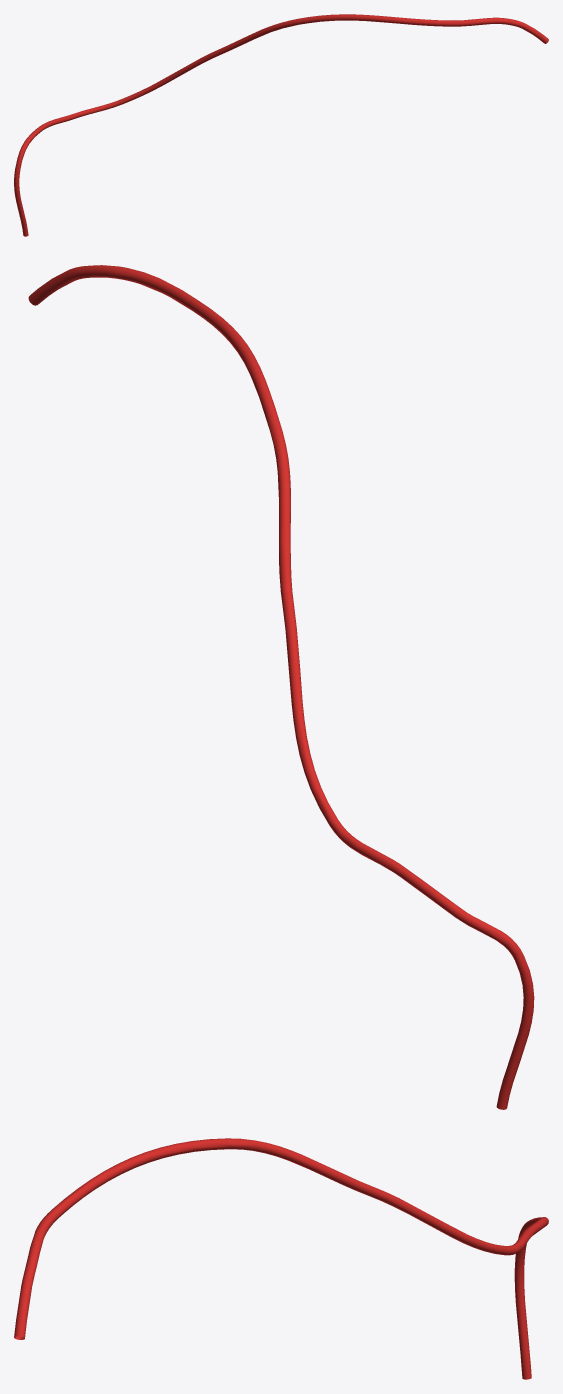
The model's file is circulatorio-suprascapular-vein-r.glb.
3 views of the same model, one above another, from view 1: azimuth 30°, elevation 25°; view 2: azimuth 150°, elevation 25°; view 3: azimuth 270°, elevation 25° (orthographic). The views are drawn at different scales.
Parts seen in each view (by area): view 1: Suprascapular vein.r; view 2: Suprascapular vein.r; view 3: Suprascapular vein.r.
Part boxes in pixels (box(x1,y1,x2,y2)): Suprascapular vein.r: box(14, 14, 548, 236); Suprascapular vein.r: box(28, 265, 534, 1109); Suprascapular vein.r: box(14, 1138, 548, 1379).
Bounding box in the file's own units: 0.1015 × 0.0598 × 0.0676.
